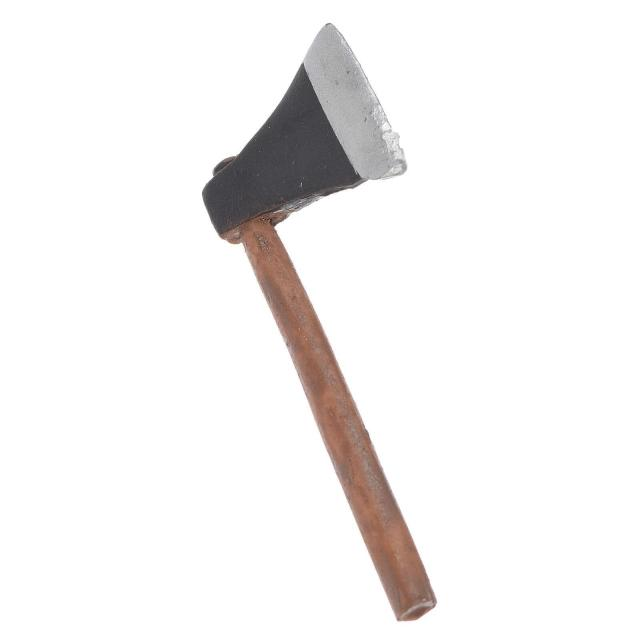Kapak: (180, 10, 440, 594)
